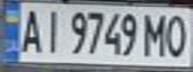4: (103, 8, 124, 56)
7: (84, 8, 106, 55)
9: (63, 7, 87, 55), (118, 9, 142, 57)
A: (18, 4, 45, 54)
I: (39, 6, 66, 55)
M: (139, 10, 172, 57)
O: (163, 11, 193, 58)
